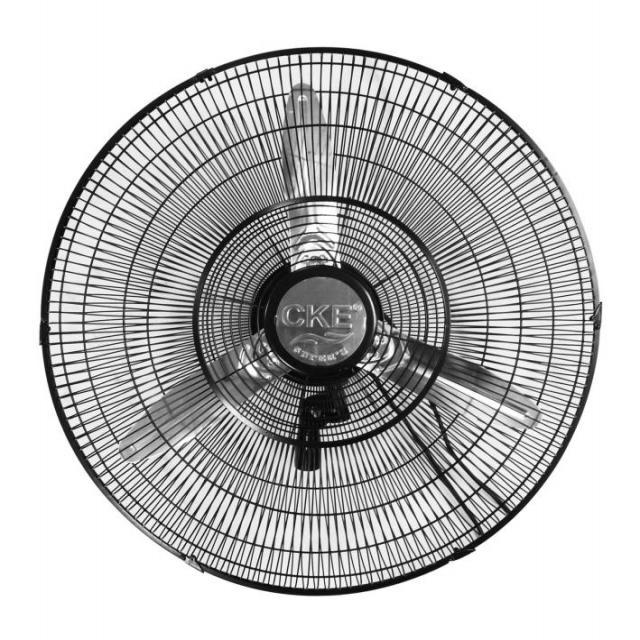fan: (36, 38, 606, 591)
